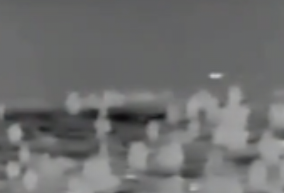Target: (209, 74, 221, 78)
